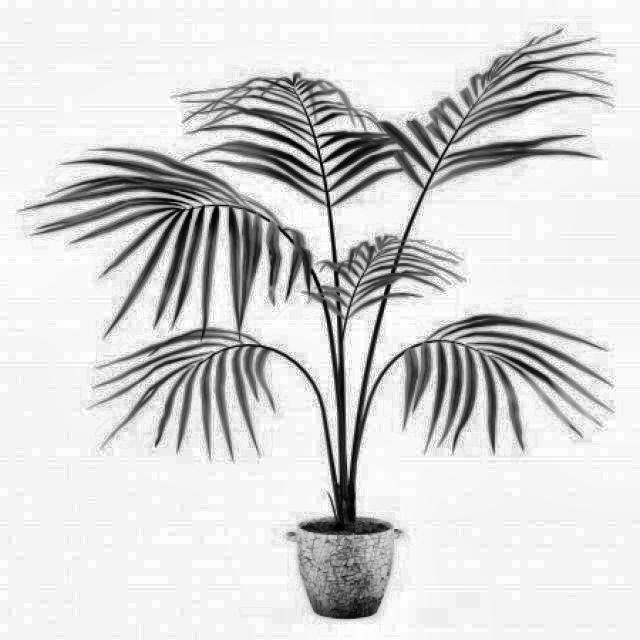plants: (146, 45, 544, 622)
